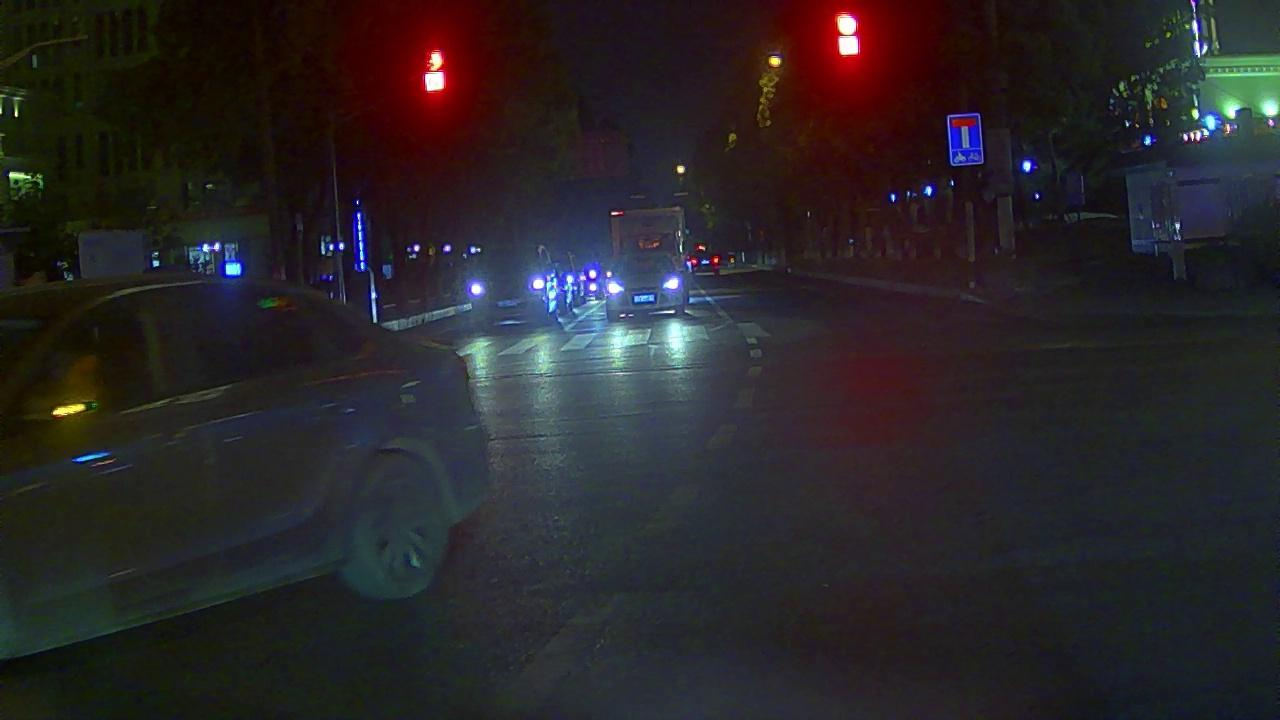traffic_light: (833, 8, 864, 64), (420, 47, 450, 95)
